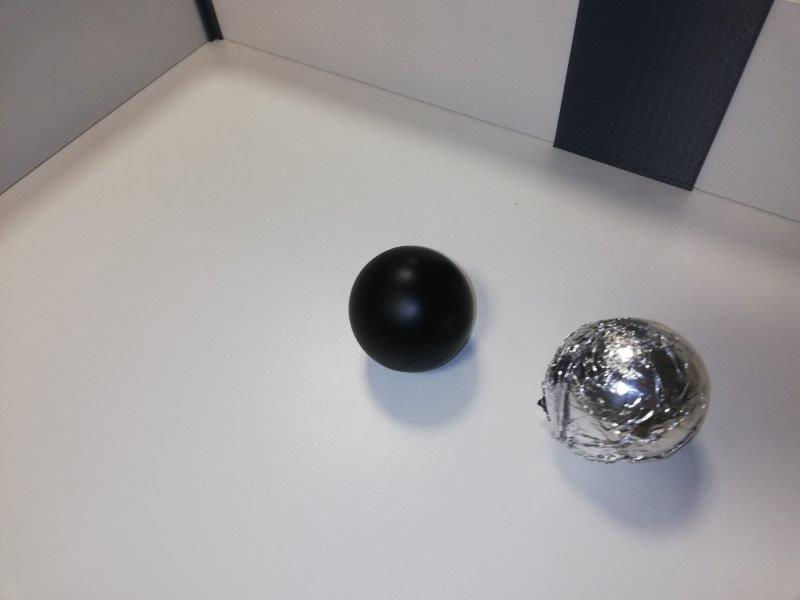bianca: (541, 317, 708, 465)
nera: (349, 243, 477, 372)
